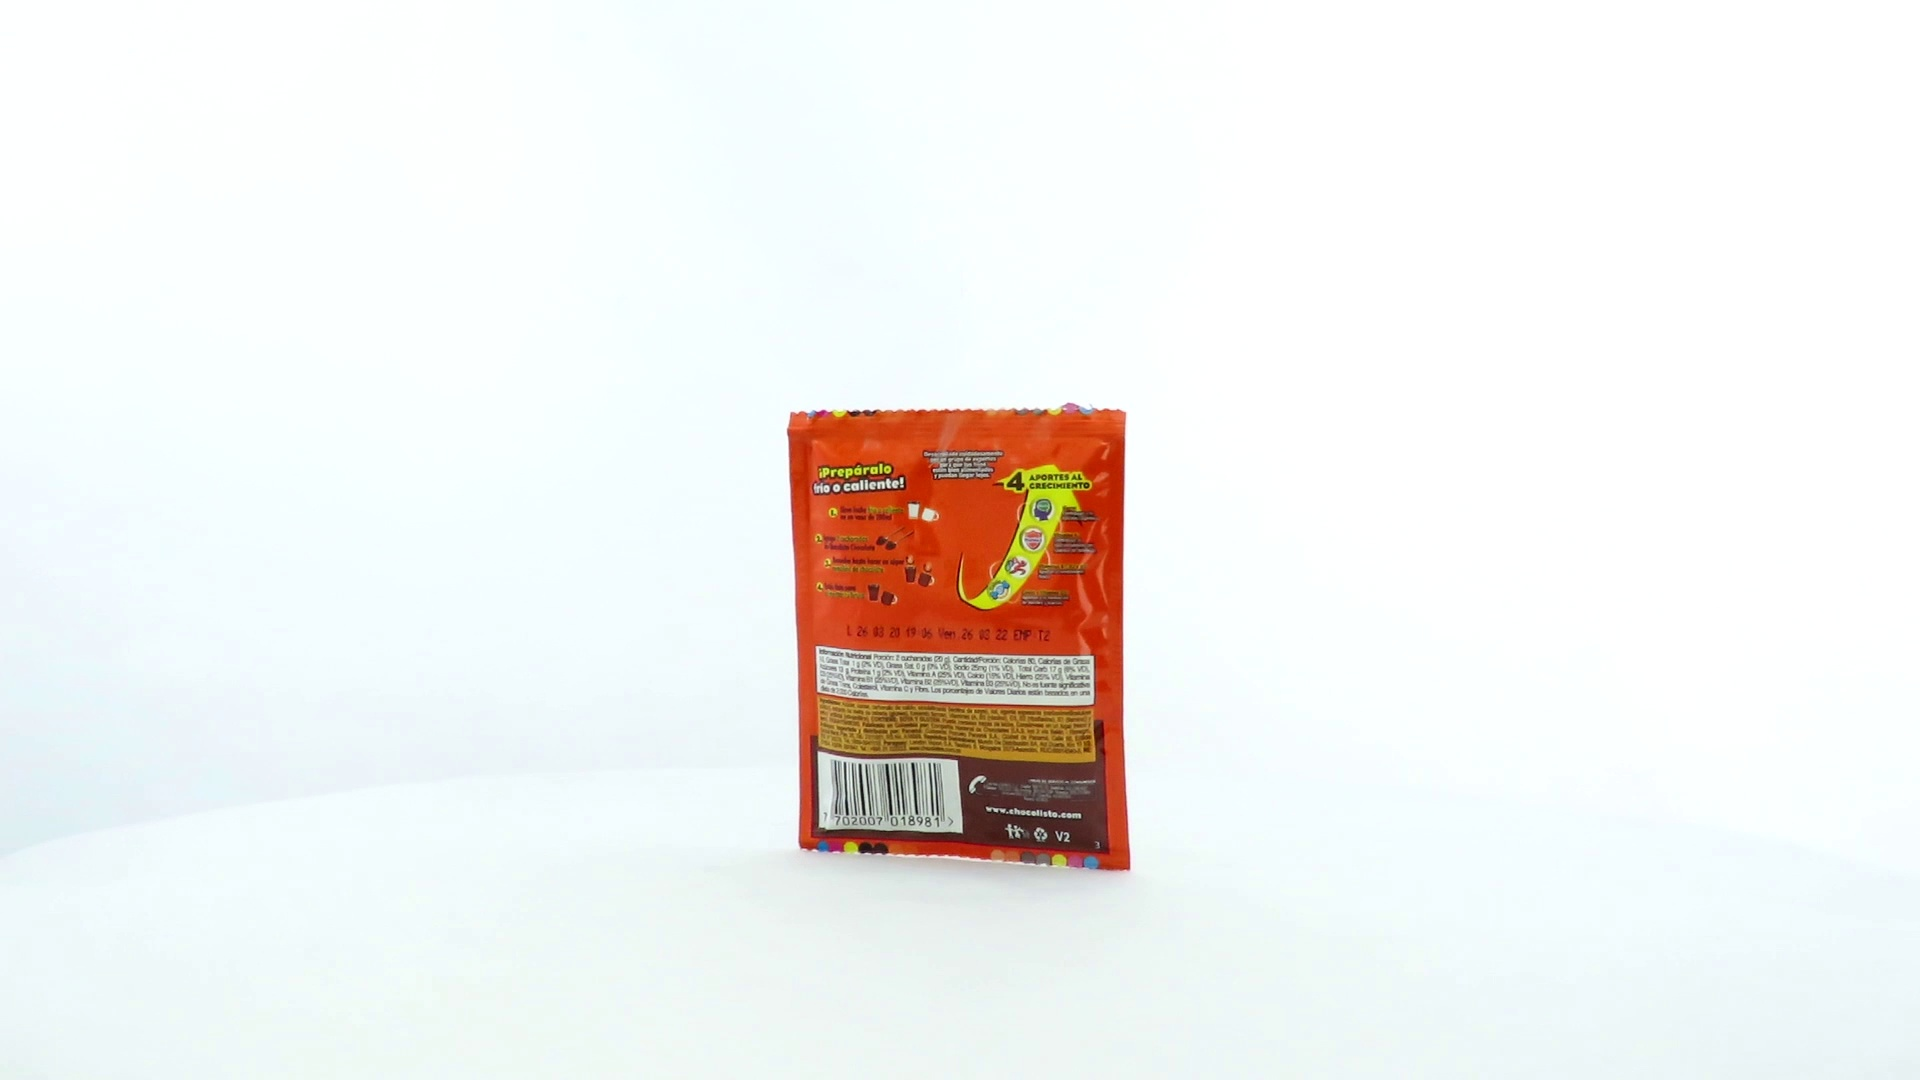COL0170103SOB02000: (782, 397, 1137, 877)
